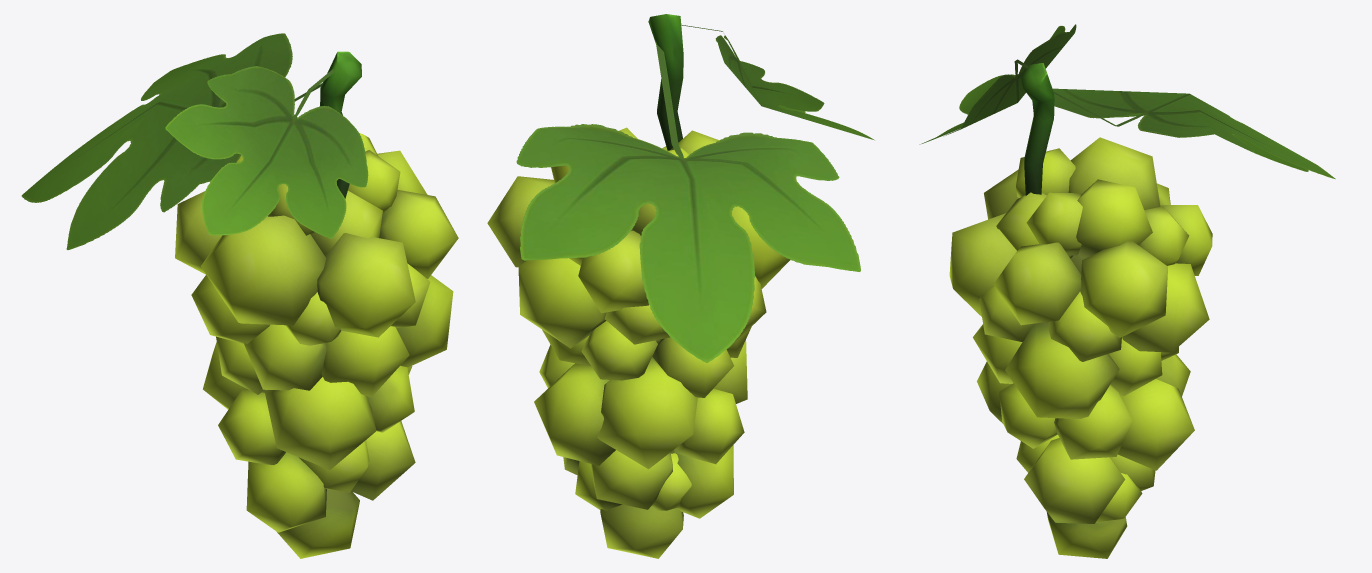
Rendered from SE_Grapes_03a.fbx.
3 views of the same model, side by side, from view 1: azimuth 30°, elevation 25°; view 2: azimuth 150°, elevation 25°; view 3: azimuth 270°, elevation 25° (orthographic). The views are drawn at different scales.
Visible parts, largest first — view 1: SE_Grapes_03a; view 2: SE_Grapes_03a; view 3: SE_Grapes_03a.
Part boxes in pixels (x1=…): SE_Grapes_03a: x1=21, y1=33, x2=458, y2=558; SE_Grapes_03a: x1=487, y1=14, x2=874, y2=558; SE_Grapes_03a: x1=919, y1=24, x2=1335, y2=558.
Size of the model in its own units: 1.68 by 2.28 by 1.85.
